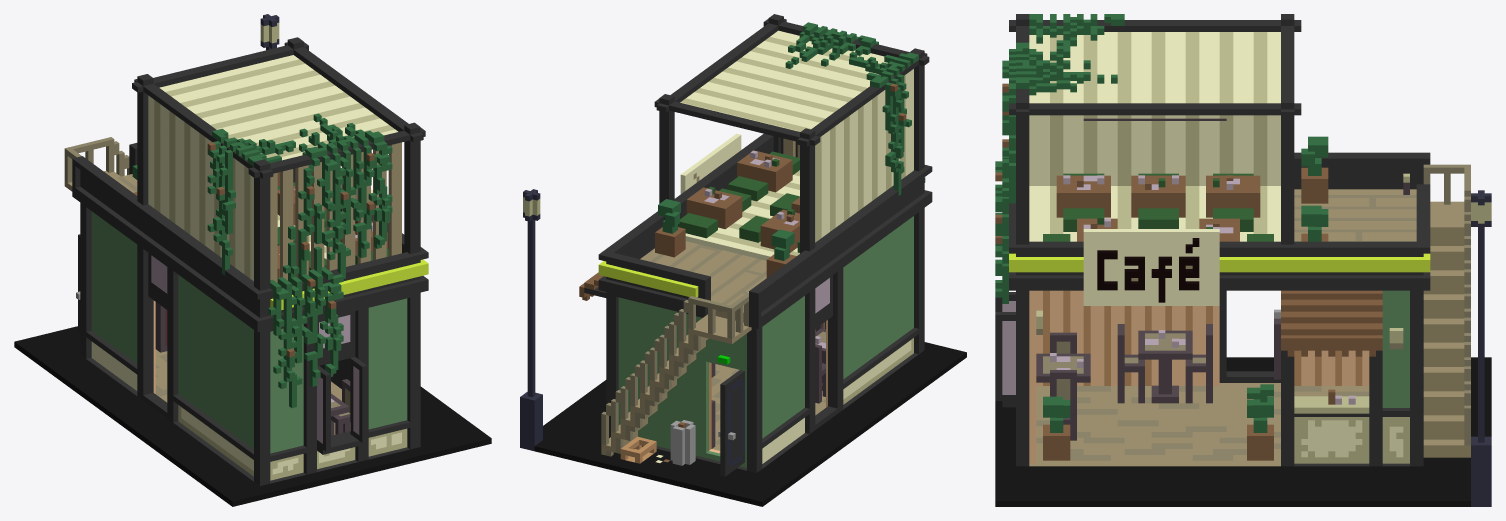
The model's file is cafe_outside.obj.
3 renders of one model, left to right at view 1: azimuth 30°, elevation 25°; view 2: azimuth 150°, elevation 25°; view 3: azimuth 270°, elevation 25°, orthographic. The views are drawn at different scales.
Size of the model in its own units: 5 by 6 by 7.3.
1 material, 1 textured.
